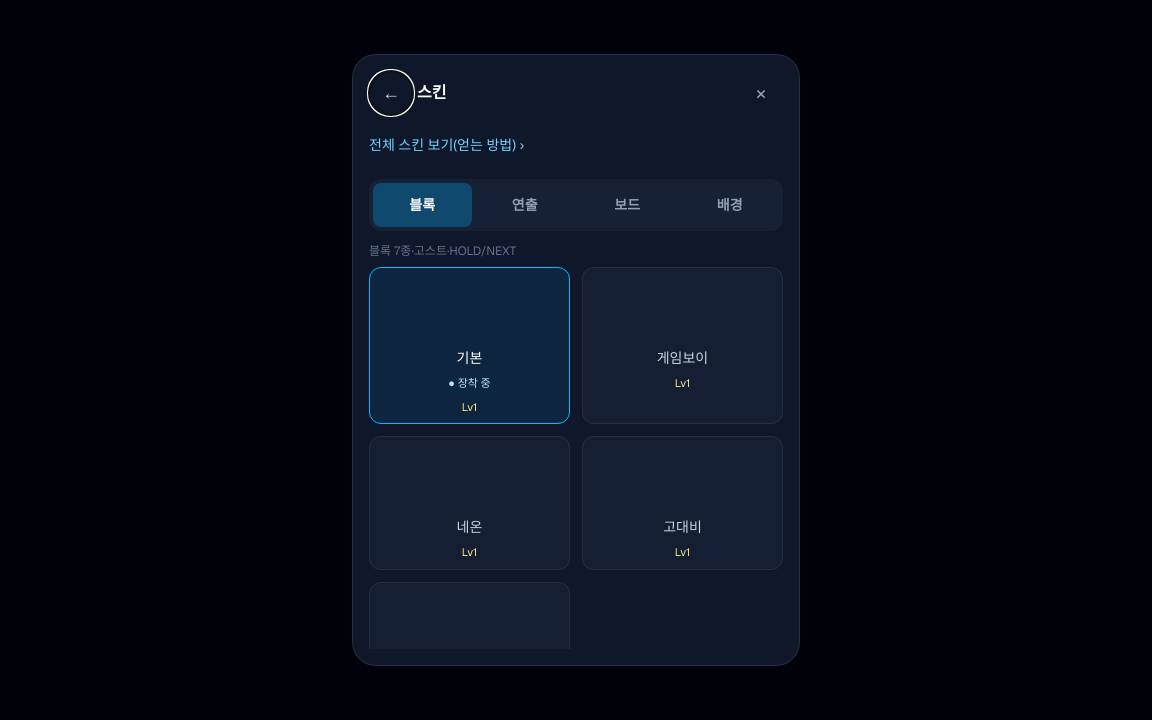
Test case: 스킨 장착 — 설정 시트의 스킨 상세 › 슬롯 탭 — 배경 탭은 그 슬롯 아이템만
The image size is (1152, 720).
Expected: the radio button with test id "skin-item-block-gold-2027" is shown, x1=369 y1=582 x2=570 y2=649
What coordinates should you click on to do the following:
click the tab "배경"
I would click on:
 (730, 205)
Its box is x1=680 y1=183 x2=779 y2=227.
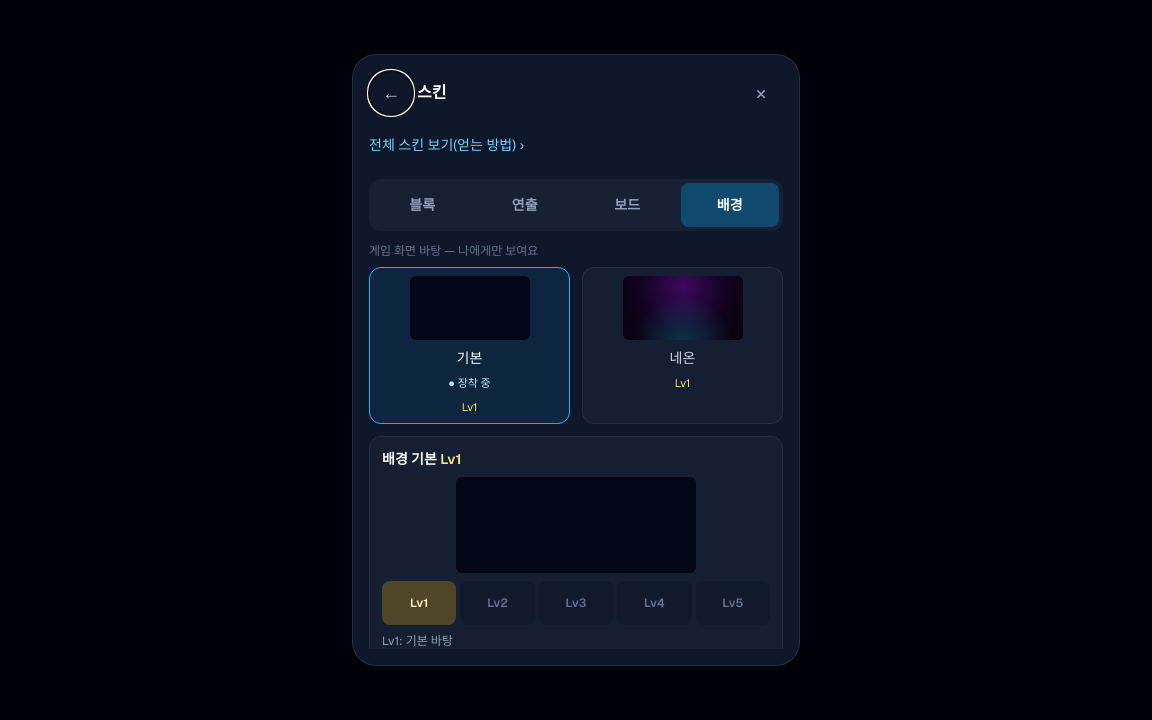
Expected: the radio button with test id "skin-item-background-neon" is shown, x1=582 y1=267 x2=783 y2=424
